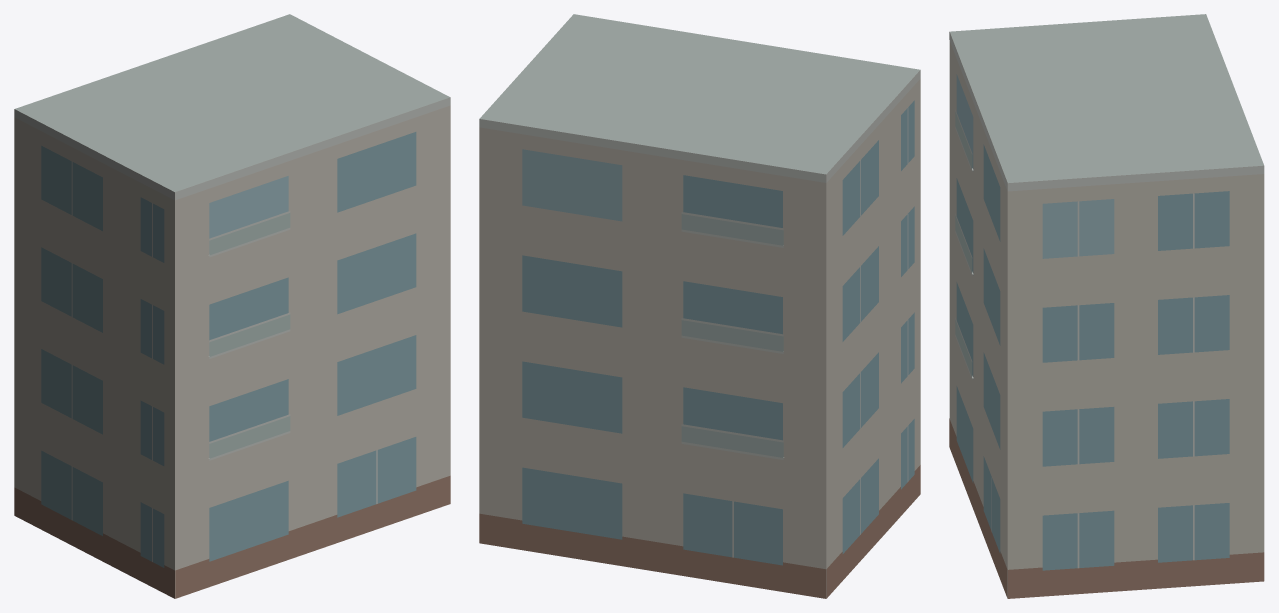
Rendered from residential-878dc464-b40c-4f06-869e-ffe5b279de6d.glb.
The picture shows the model from 3 angles, left to right: view 1: azimuth 30°, elevation 25°; view 2: azimuth 150°, elevation 25°; view 3: azimuth 270°, elevation 25°; orthographic projection. The views are drawn at different scales.
Parts seen in each view (by area): view 1: residential-878dc464-b40c-4f06-869e-ffe5b279de6d.tmp; view 2: residential-878dc464-b40c-4f06-869e-ffe5b279de6d.tmp; view 3: residential-878dc464-b40c-4f06-869e-ffe5b279de6d.tmp.
Part boxes in pixels (bbox=[...]): residential-878dc464-b40c-4f06-869e-ffe5b279de6d.tmp: bbox=[14, 14, 450, 598]; residential-878dc464-b40c-4f06-869e-ffe5b279de6d.tmp: bbox=[479, 14, 920, 598]; residential-878dc464-b40c-4f06-869e-ffe5b279de6d.tmp: bbox=[949, 14, 1264, 598].
Bounding box in the file's own units: 10.66 × 12.2 × 8.38.
